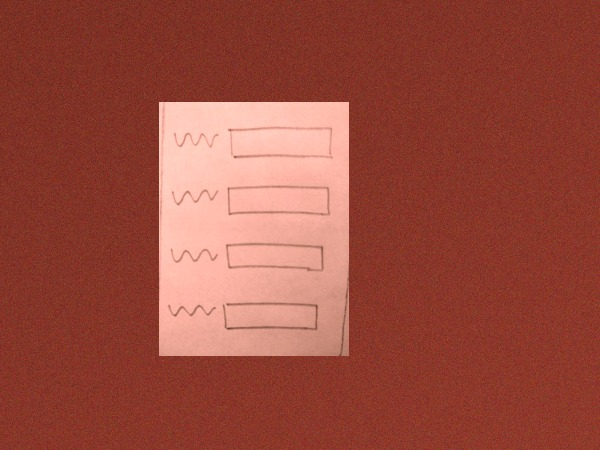text: (166, 243, 220, 265), (169, 185, 220, 208), (165, 298, 218, 320), (172, 129, 219, 152)
text_input: (226, 121, 338, 161), (223, 180, 336, 219), (224, 242, 328, 272), (219, 301, 323, 331)
